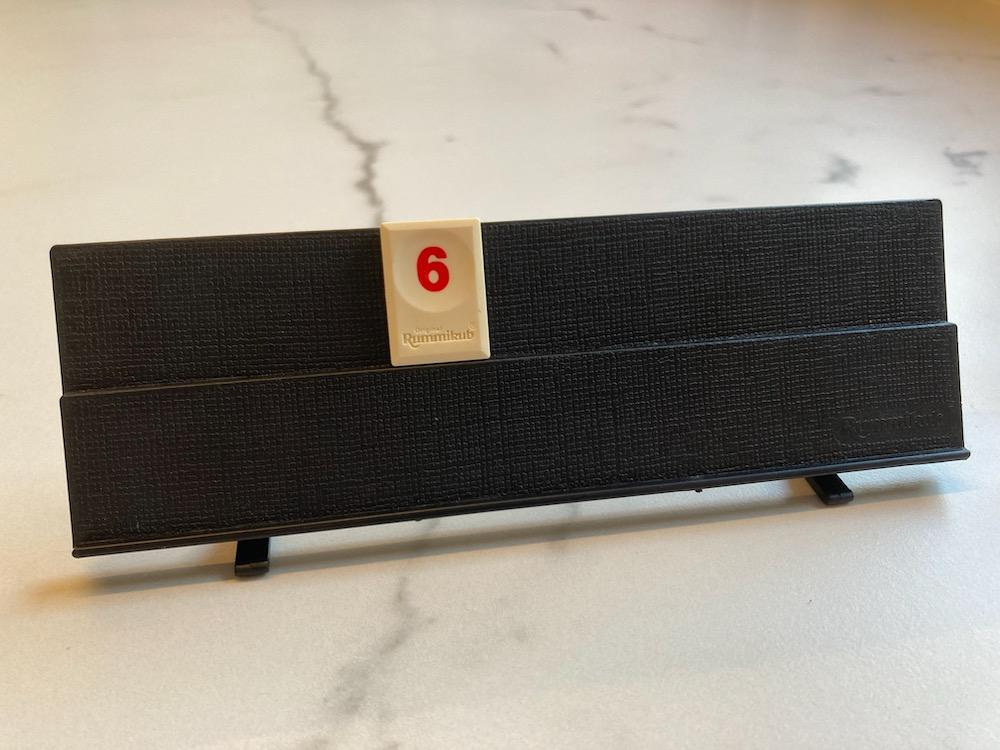red_6: (381, 219, 490, 367)
